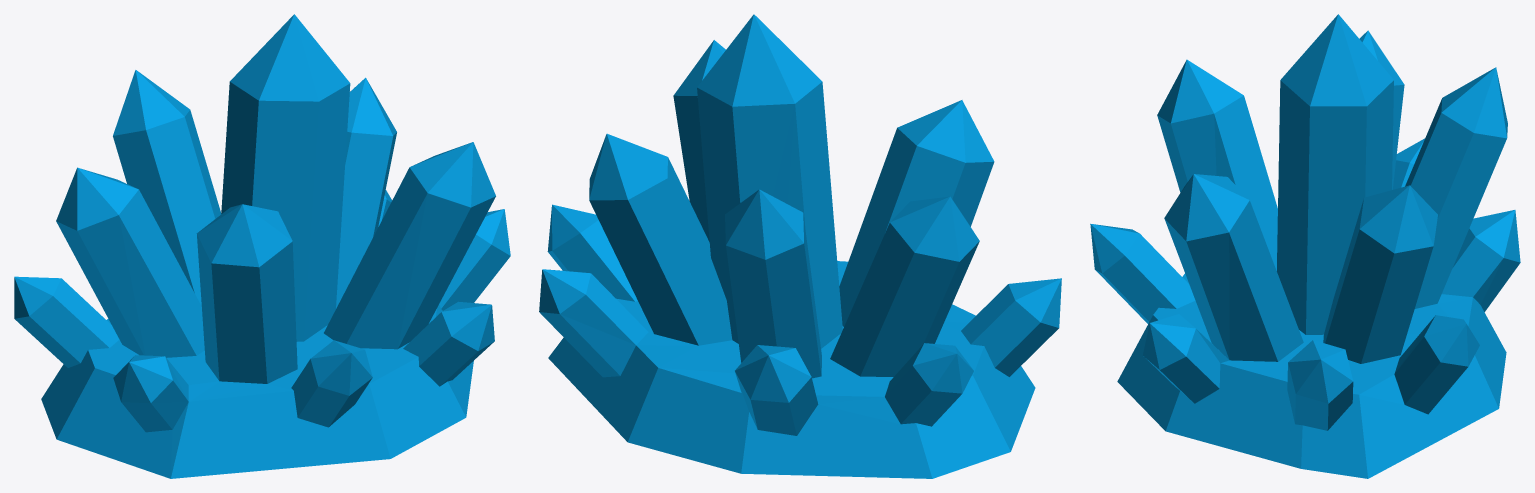
The model's file is DiamondRock_Split.fbx.
3 views of the same model, side by side, from view 1: azimuth 30°, elevation 25°; view 2: azimuth 150°, elevation 25°; view 3: azimuth 270°, elevation 25° (orthographic). The views are drawn at different scales.
Parts seen in each view (by area): view 1: DiamondRock_PieceA, DiamondRock_PieceB; view 2: DiamondRock_PieceA, DiamondRock_PieceB; view 3: DiamondRock_PieceB, DiamondRock_PieceA.
Boxes of the visible parts, left/top/right/bottom form: DiamondRock_PieceA: left=14, top=40, right=380, bottom=478; DiamondRock_PieceB: left=270, top=14, right=510, bottom=459; DiamondRock_PieceA: left=691, top=40, right=1061, bottom=478; DiamondRock_PieceB: left=539, top=14, right=847, bottom=459; DiamondRock_PieceB: left=1117, top=14, right=1503, bottom=478; DiamondRock_PieceA: left=1090, top=30, right=1520, bottom=376.
Bounding box in the file's own units: 25.01 × 19.56 × 20.42.
